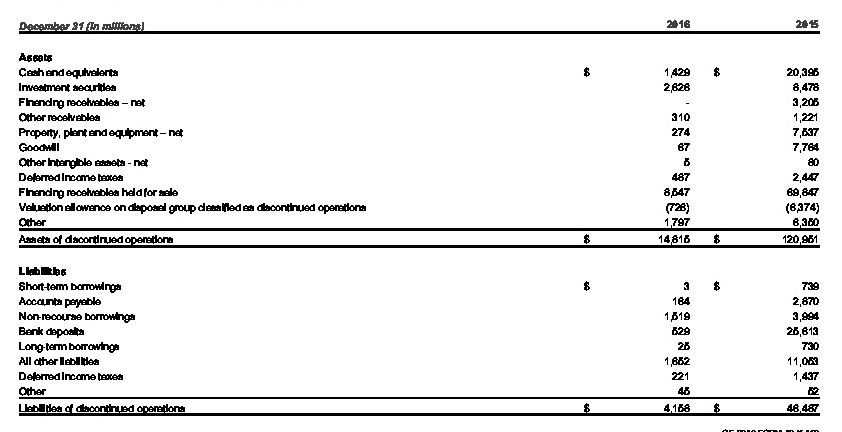table: (0, 0, 842, 432)
